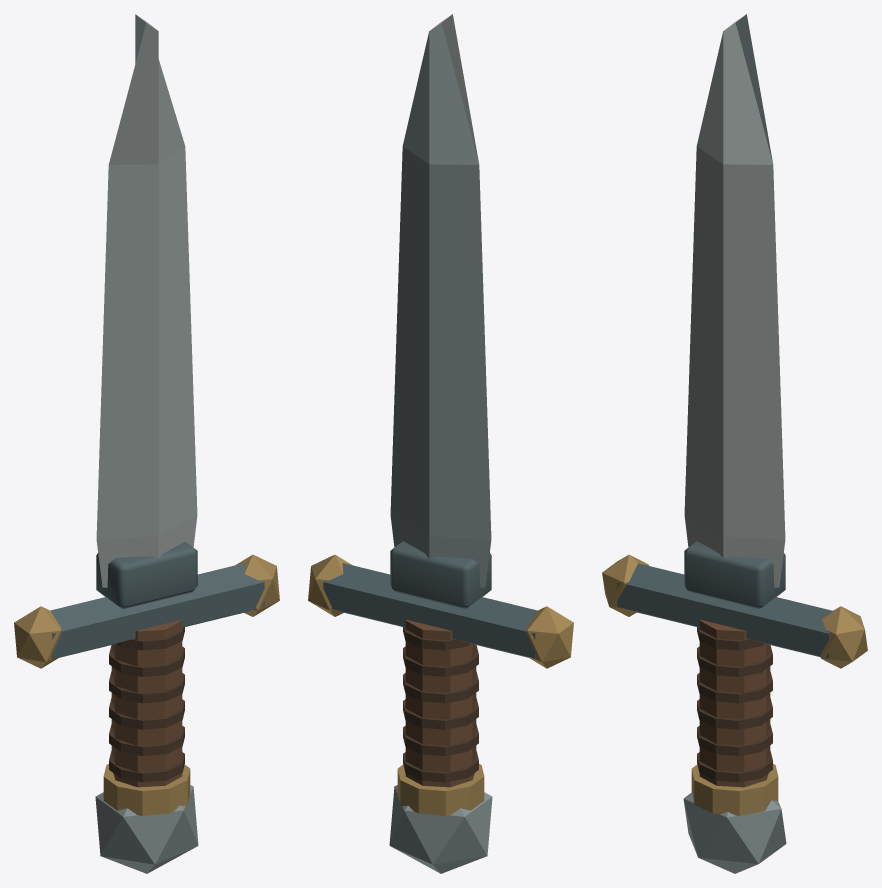
The model's file is Sword_1H.fbx.
3 renders of one model, left to right at view 1: azimuth 30°, elevation 25°; view 2: azimuth 150°, elevation 25°; view 3: azimuth 330°, elevation 25°, orthographic.
Parts seen in each view (by area): view 1: Sword_1H; view 2: Sword_1H; view 3: Sword_1H.
Boxes of the visible parts, <box> form: Sword_1H: <box>14,14,279,873</box>; Sword_1H: <box>308,14,573,873</box>; Sword_1H: <box>602,14,867,873</box>.
Size of the model in its own units: 82.41 by 258 by 24.67.
